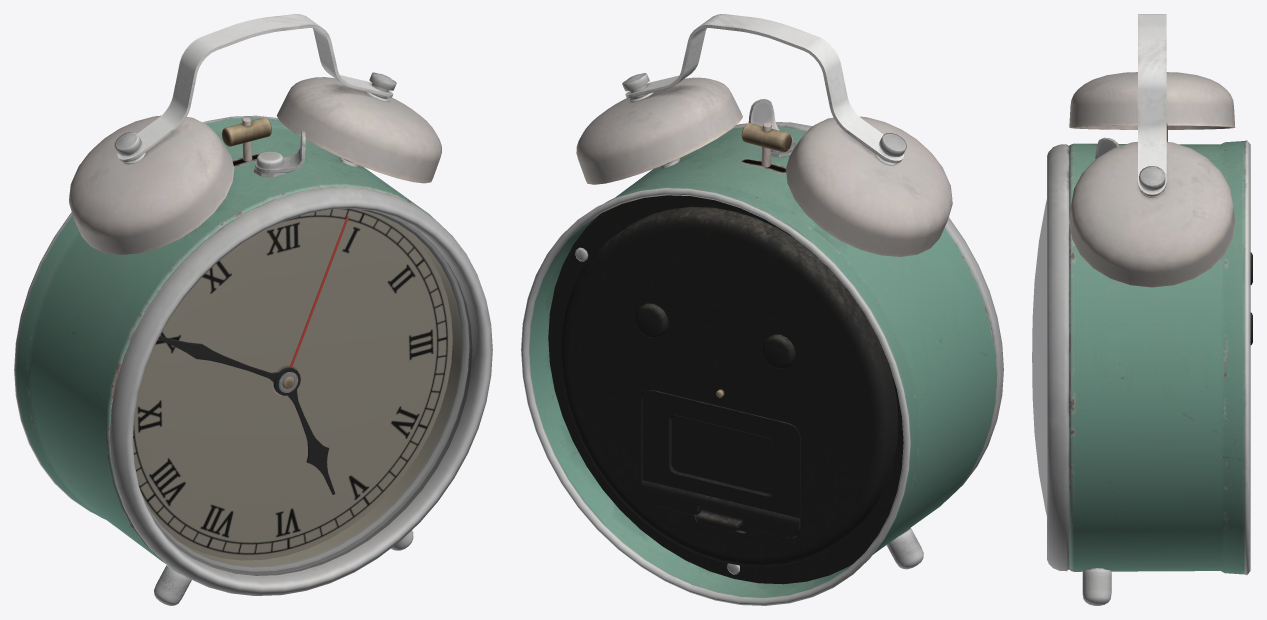
3 renders of one model, left to right at view 1: azimuth 30°, elevation 25°; view 2: azimuth 150°, elevation 25°; view 3: azimuth 270°, elevation 25°, orthographic. The views are drawn at different scales.
Parts seen in each view (by area): view 1: alarm_clock_01, alarm_clock_01_glass, alarm_clock_01_hour_hand, alarm_clock_01_minute_hand; view 2: alarm_clock_01; view 3: alarm_clock_01, alarm_clock_01_glass.
Boxes of the visible parts, x1,y1,x2,y2 form: alarm_clock_01: (14, 14, 492, 605); alarm_clock_01_glass: (133, 209, 472, 575); alarm_clock_01_hour_hand: (274, 368, 335, 494); alarm_clock_01_minute_hand: (158, 336, 293, 391); alarm_clock_01: (521, 14, 1003, 605); alarm_clock_01: (1047, 14, 1252, 605); alarm_clock_01_glass: (1032, 200, 1046, 515).
Bounding box in the file's own units: 0.1317 × 0.1742 × 0.0667.
Materials: 2 (1 with a texture image).
